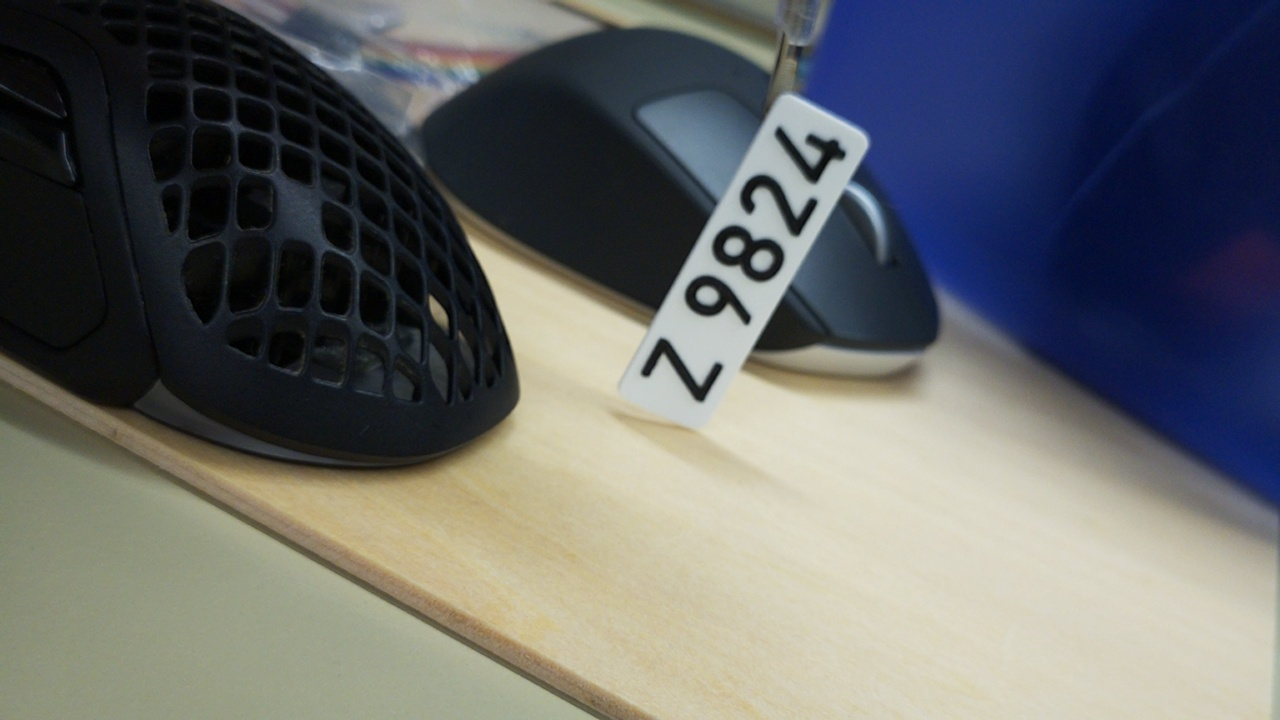license_plate: (614, 89, 871, 432)
